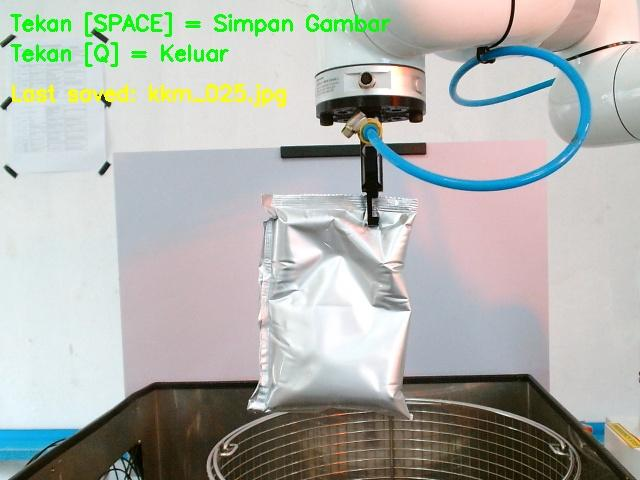retort-pouch: (245, 193, 418, 419)
